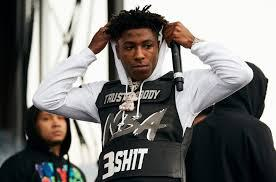quandale-dingle: (112, 22, 161, 77)
